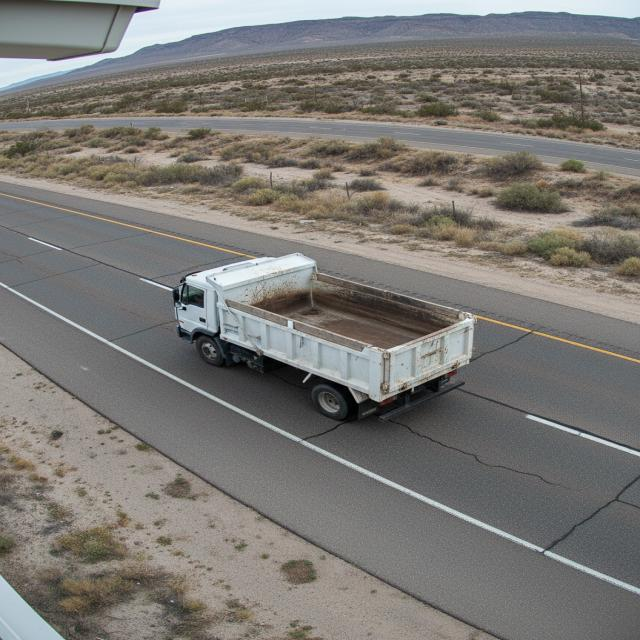Box: (222, 254, 479, 360)
Truck: (163, 242, 497, 404)
